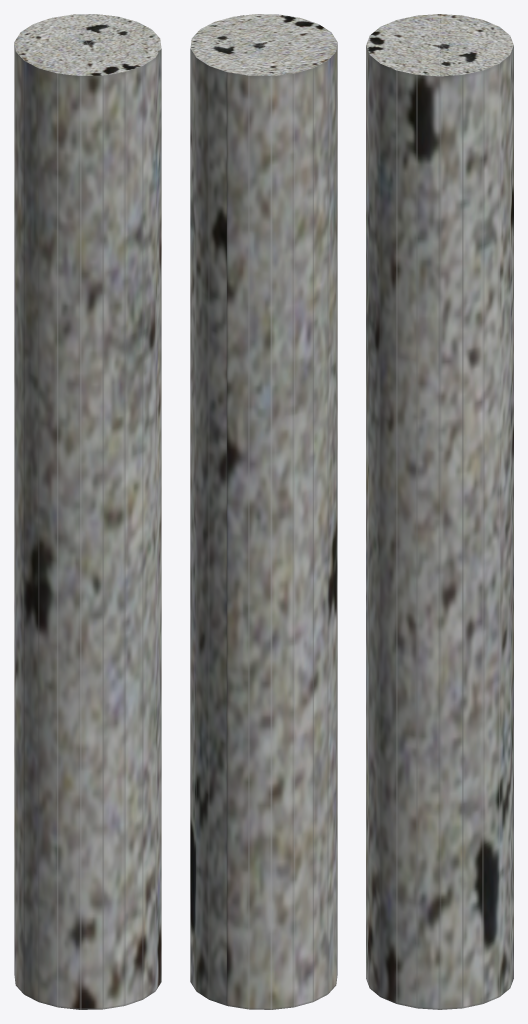
Rendered from Pole.fbx.
The picture shows the model from 3 angles, left to right: view 1: azimuth 30°, elevation 25°; view 2: azimuth 150°, elevation 25°; view 3: azimuth 270°, elevation 25°; orthographic projection.
Visible parts, largest first — view 1: pCylinder1; view 2: pCylinder1; view 3: pCylinder1.
Boxes of the visible parts, x1=… form: pCylinder1: x1=14, y1=14, x2=161, y2=1009; pCylinder1: x1=190, y1=14, x2=337, y2=1009; pCylinder1: x1=366, y1=14, x2=513, y2=1009.
Size of the model in its own units: 2.71 by 18.87 by 2.71.
Materials: 1 (1 with a texture image).
